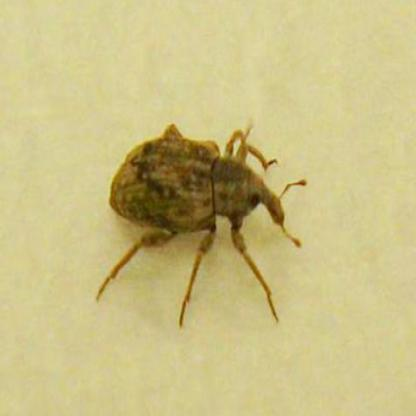rice-bug: (106, 121, 295, 300)
